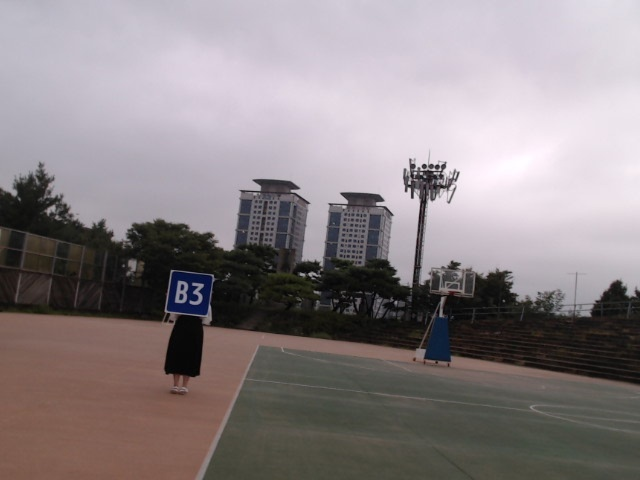delivery_b3: (166, 270, 213, 317)
